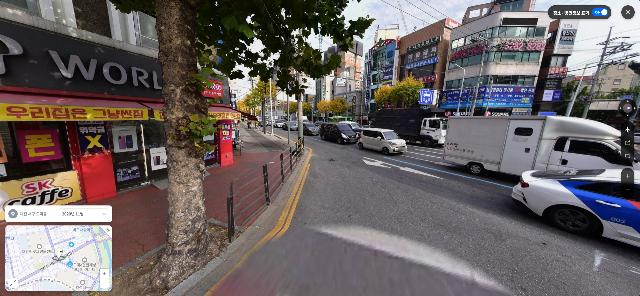ginkgo: (371, 84, 397, 109), (328, 96, 349, 116), (317, 100, 328, 120), (237, 100, 250, 115)
other: (111, 0, 376, 296), (250, 73, 281, 136), (394, 75, 426, 108), (244, 96, 259, 130)
